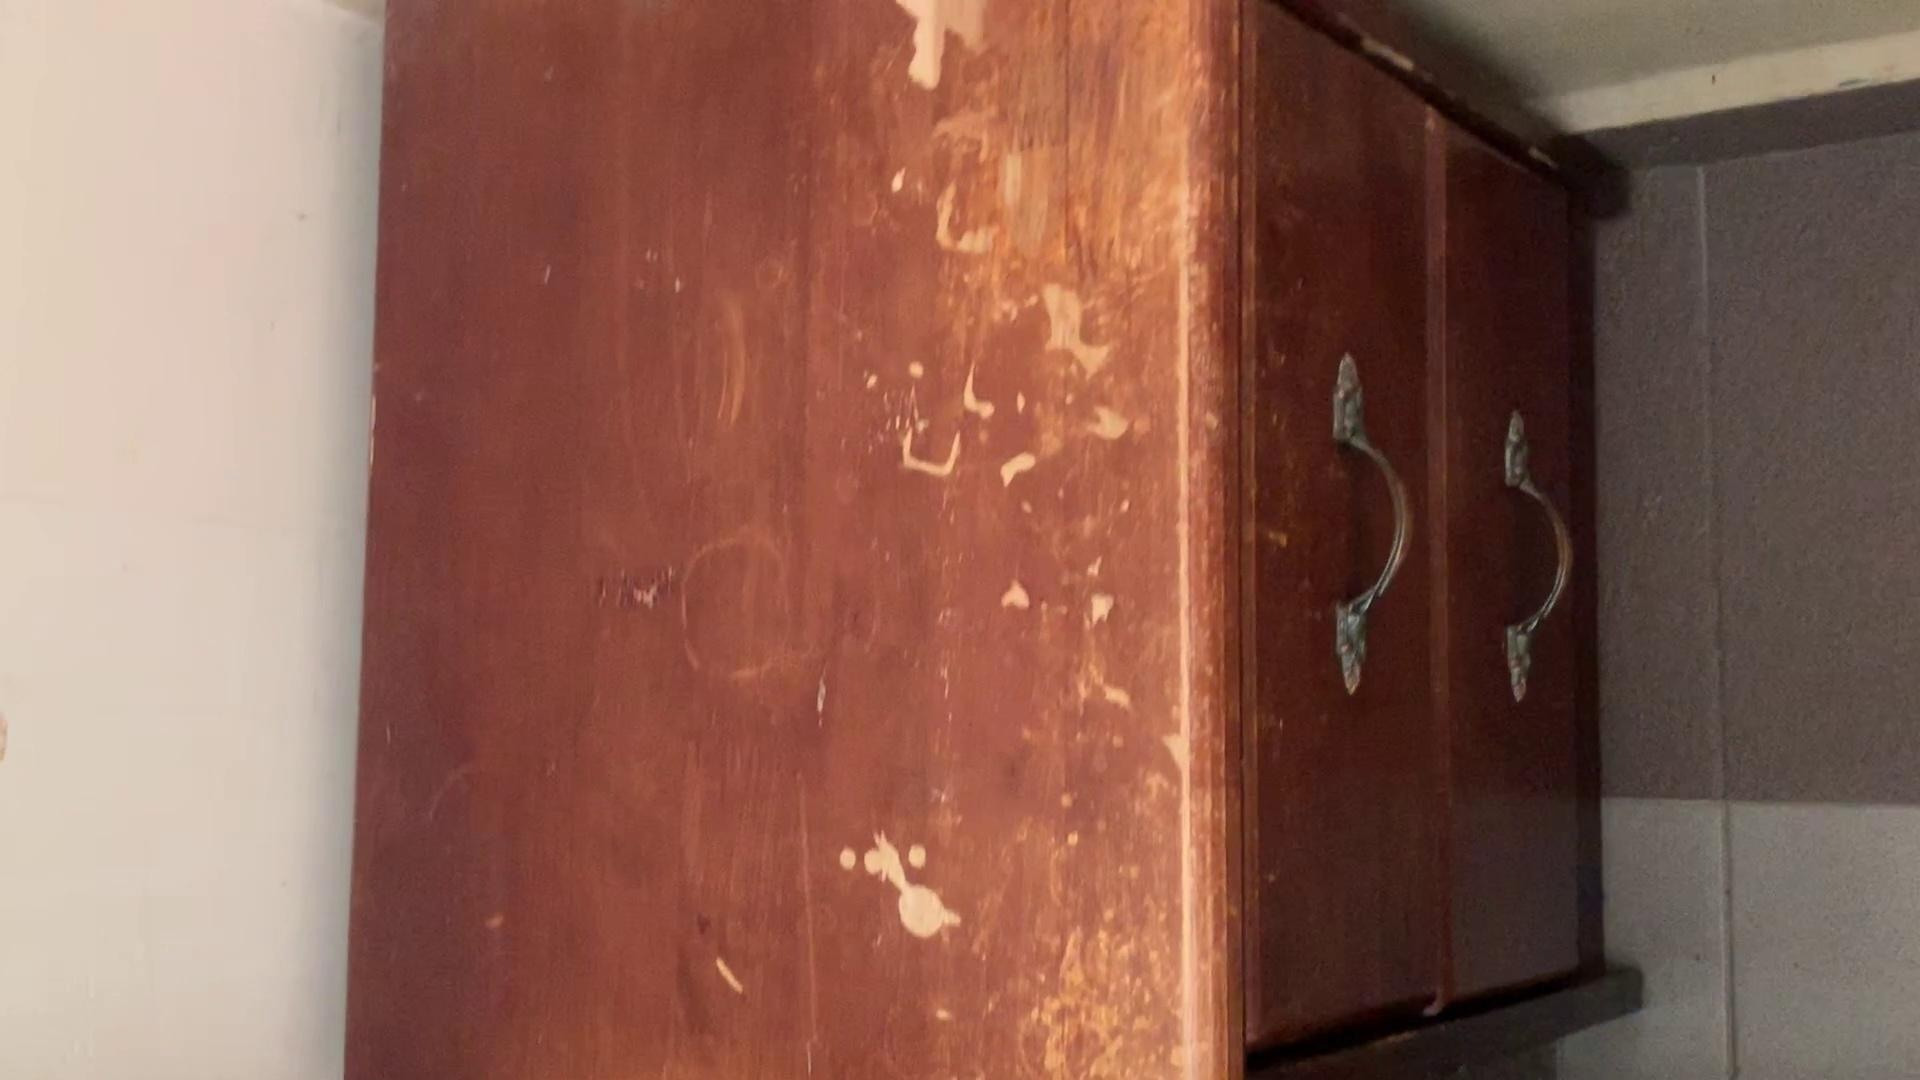cabinet_door: (1251, 71, 1435, 1021), (1440, 160, 1578, 990)
handle: (1319, 338, 1419, 703), (1495, 398, 1578, 723)
